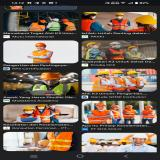Helmet: (134, 15, 158, 24), (40, 72, 62, 80), (38, 140, 52, 147), (132, 134, 148, 140), (87, 42, 101, 48), (109, 41, 123, 46), (96, 71, 112, 75), (34, 42, 47, 46), (23, 107, 36, 111), (128, 46, 140, 50), (112, 70, 123, 74), (95, 103, 107, 106), (111, 104, 120, 108), (127, 71, 138, 74), (52, 18, 59, 22), (115, 13, 124, 16), (61, 19, 69, 22), (125, 105, 133, 108), (121, 140, 128, 143), (40, 20, 46, 23), (145, 106, 153, 108), (112, 142, 119, 144), (90, 140, 96, 142), (100, 140, 106, 142)
Vest: (47, 132, 73, 151), (32, 84, 70, 95), (88, 110, 112, 124), (32, 50, 53, 64), (110, 76, 129, 91), (124, 75, 142, 90), (34, 108, 52, 123), (92, 77, 111, 91), (85, 48, 104, 60), (104, 49, 124, 60), (111, 19, 128, 30), (47, 108, 60, 120), (125, 52, 142, 60), (62, 22, 77, 31), (29, 23, 45, 31), (123, 109, 137, 118), (110, 109, 122, 119), (142, 110, 156, 118), (49, 22, 60, 31), (18, 114, 40, 118), (115, 13, 124, 16)
